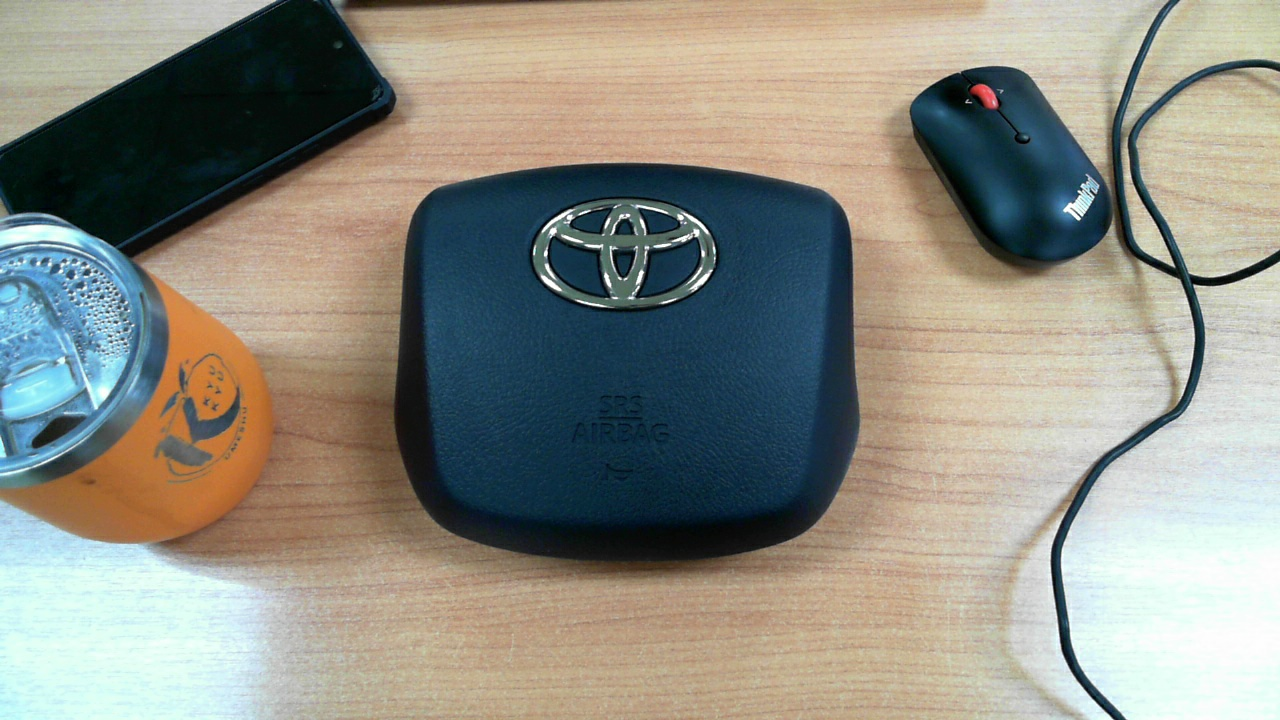Airbag: (358, 133, 889, 601)
